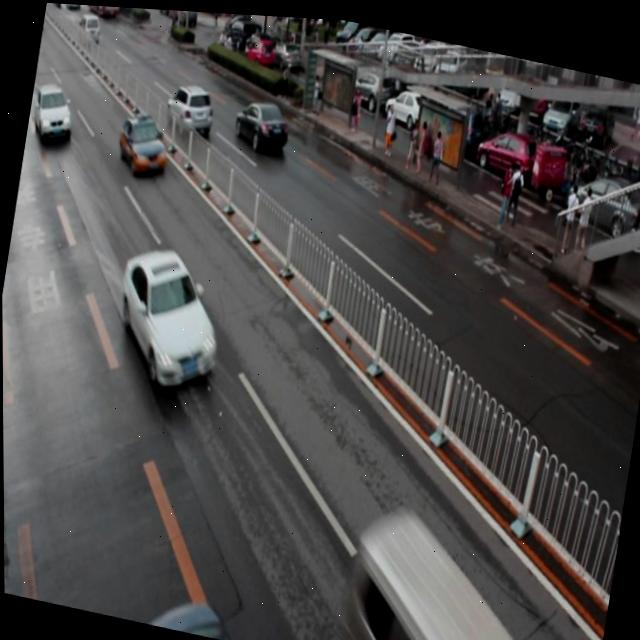car: (108, 237, 232, 395), (147, 589, 241, 640), (114, 109, 173, 180), (231, 92, 293, 155), (29, 79, 79, 148), (163, 77, 218, 138)
truck: (340, 496, 565, 640)
